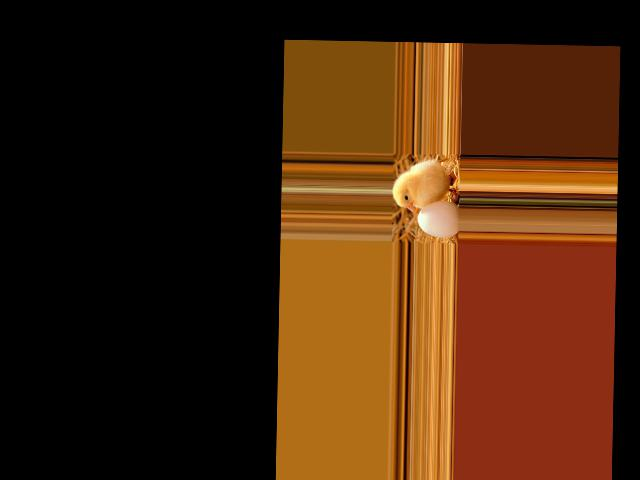egg: (417, 200, 460, 237)
